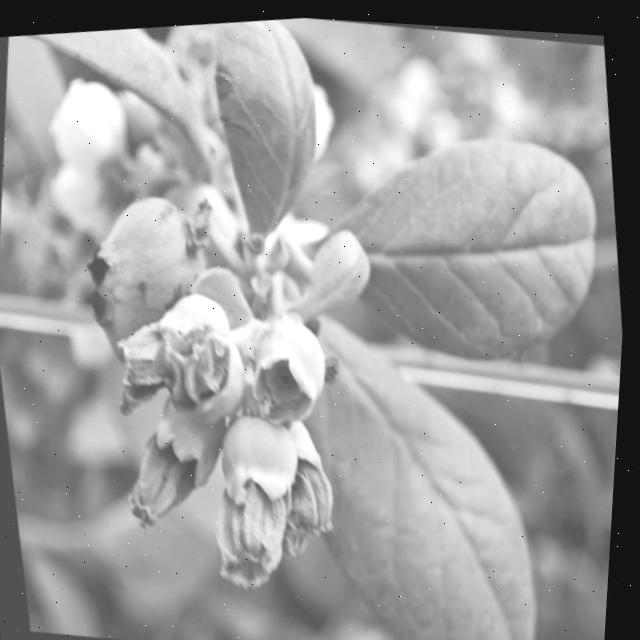Semi-RipeBlueBerry: (62, 174, 230, 378)
